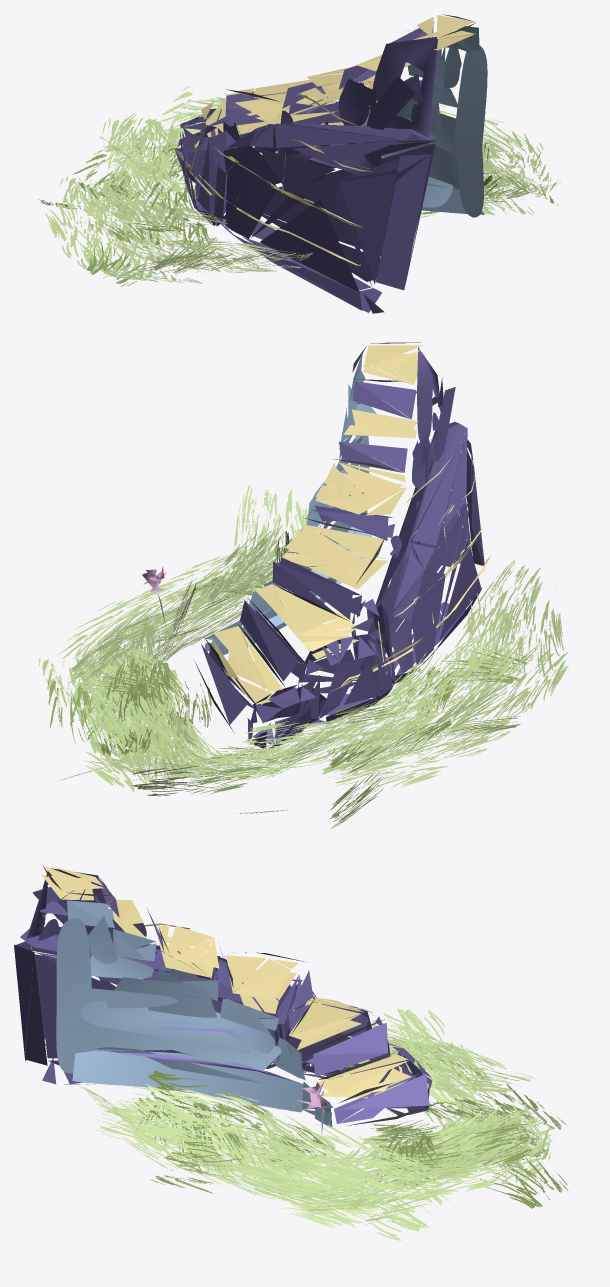
The model's file is wwwunderkammer_Regine_Asset_staircaseDrawn.glb.
The picture shows the model from 3 angles, top to bottom: view 1: azimuth 30°, elevation 25°; view 2: azimuth 150°, elevation 25°; view 3: azimuth 270°, elevation 25°; orthographic projection. The views are drawn at different scales.
Parts seen in each view (by area): view 1: brush_UnlitHull_g0_b0, brush_CoarseBristles_g0_b0, brush_Marker_g0_b0, brush_DoubleTaperedMarker_g0_b0; view 2: brush_CoarseBristles_g0_b0, brush_UnlitHull_g0_b0, brush_Marker_g0_b0, brush_DoubleTaperedMarker_g0_b0; view 3: brush_CoarseBristles_g0_b0, brush_UnlitHull_g0_b0, brush_Marker_g0_b0.
Part boxes in pixels (x1,y1,x2,y2): brush_UnlitHull_g0_b0: (174, 15, 479, 313); brush_CoarseBristles_g0_b0: (38, 84, 560, 286); brush_Marker_g0_b0: (223, 14, 487, 217); brush_DoubleTaperedMarker_g0_b0: (175, 93, 372, 265); brush_CoarseBristles_g0_b0: (39, 480, 578, 828); brush_UnlitHull_g0_b0: (201, 345, 484, 748); brush_Marker_g0_b0: (142, 342, 455, 733); brush_DoubleTaperedMarker_g0_b0: (330, 456, 490, 691); brush_CoarseBristles_g0_b0: (77, 978, 568, 1240); brush_UnlitHull_g0_b0: (14, 866, 432, 1128); brush_Marker_g0_b0: (26, 865, 439, 1134).
Bounding box in the file's own units: 8.96 × 5.8 × 9.45.
Materials: 4 (2 with a texture image).
